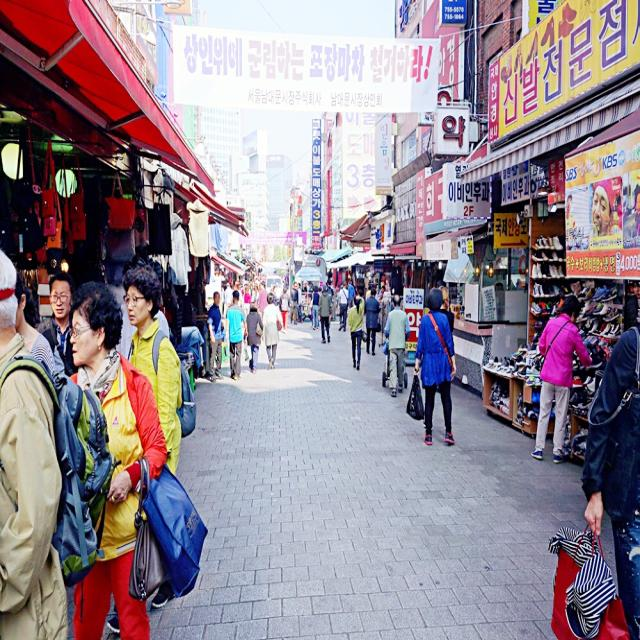body: (67, 278, 169, 640), (547, 322, 640, 640), (120, 261, 198, 615), (528, 292, 595, 466), (412, 290, 458, 448), (562, 180, 640, 261), (421, 286, 457, 435), (36, 268, 80, 380), (38, 265, 80, 380), (14, 269, 57, 378), (383, 293, 410, 398), (223, 285, 248, 381), (203, 290, 226, 385), (280, 279, 321, 329), (260, 295, 284, 373), (242, 298, 264, 376), (346, 291, 366, 371), (364, 288, 382, 357), (317, 282, 333, 345), (239, 270, 265, 298), (337, 280, 350, 333), (325, 278, 335, 320), (220, 271, 238, 289), (348, 276, 354, 298), (274, 283, 280, 302), (379, 282, 385, 299)
